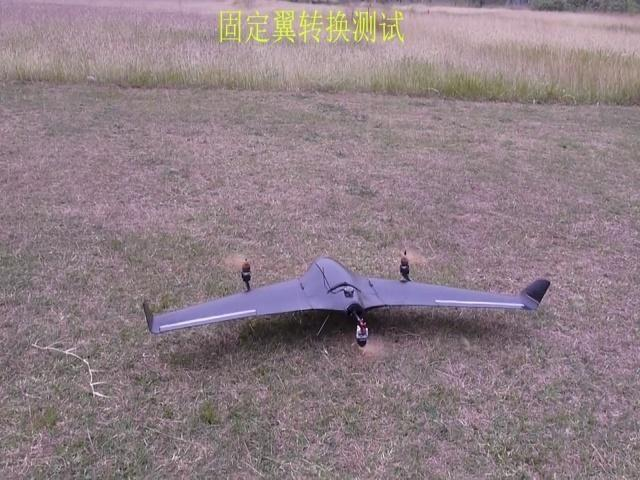Airplane: (142, 249, 551, 354)
